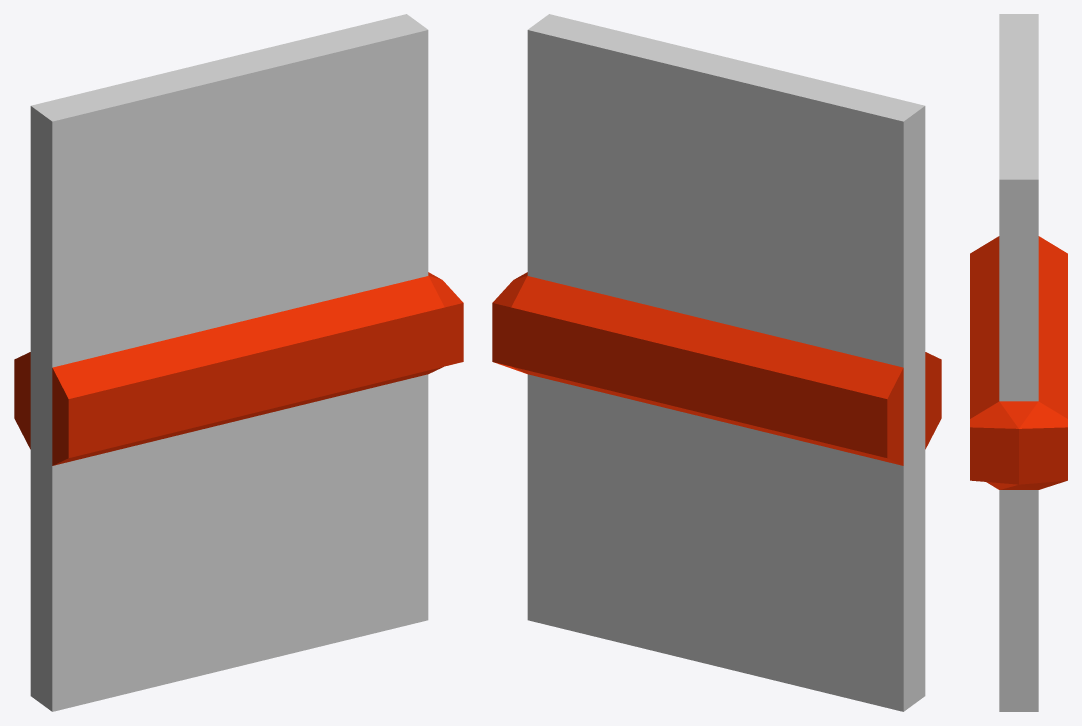
The model's file is WallEnd0.fbx.
3 views of the same model, side by side, from view 1: azimuth 30°, elevation 25°; view 2: azimuth 150°, elevation 25°; view 3: azimuth 270°, elevation 25° (orthographic). The views are drawn at different scales.
Parts seen in each view (by area): view 1: WallEnd0; view 2: WallEnd0; view 3: WallEnd0.
Boxes of the visible parts, box(x1,y1,x2,y2) form: WallEnd0: box(14, 14, 463, 711); WallEnd0: box(492, 14, 941, 711); WallEnd0: box(970, 14, 1067, 711).
Bounding box in the file's own units: 213 × 300 × 50.
